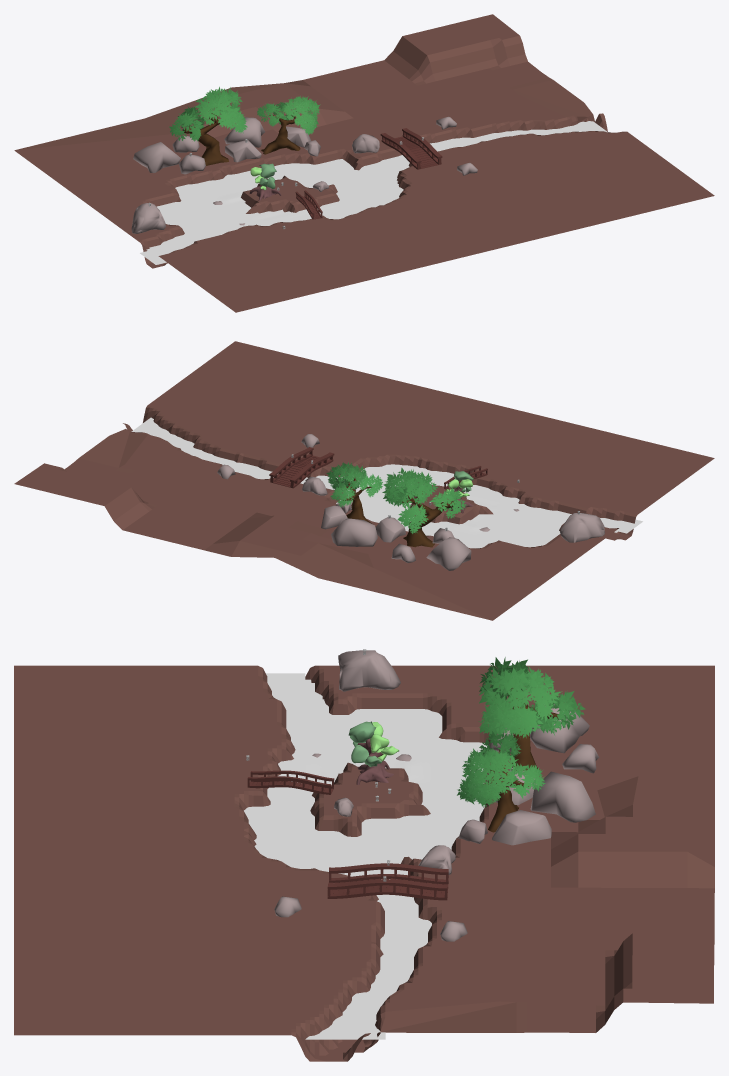
File: game_world2.glb
3 renders of one model, top to bottom at view 1: azimuth 30°, elevation 25°; view 2: azimuth 150°, elevation 25°; view 3: azimuth 270°, elevation 25°, orthographic. The views are drawn at different scales.
Visible parts, largest first — view 1: Ground, Water.001, leaf.001, leaf.002, bridge.002, Stone.014, Stone.001, Plane.004, Stone.010, Plane.001, Stone.006; view 2: Ground, Water.001, leaf.001, leaf.002, bridge.002, Stone.010, Stone.001, Stone.014, Plane.004, Stone.006, Stone.009; view 3: Ground, Water.001, leaf.001, leaf.002, bridge.002, Stone.010, Stone.001, Stone.009, bridge.003, Stone.014, Stone.008, Trunk (+2 smaller).
Boxes of the visible parts, x1=… form: Ground: x1=14, y1=14, x2=714, y2=312; Water.001: x1=140, y1=121, x2=607, y2=264; leaf.001: x1=169, y1=86, x2=247, y2=141; leaf.002: x1=257, y1=96, x2=320, y2=135; bridge.002: x1=380, y1=128, x2=442, y2=169; Stone.014: x1=133, y1=142, x2=180, y2=172; Stone.001: x1=131, y1=203, x2=165, y2=233; Plane.004: x1=184, y1=113, x2=228, y2=165; Stone.010: x1=224, y1=117, x2=264, y2=147; Plane.001: x1=261, y1=111, x2=307, y2=154; Stone.006: x1=225, y1=140, x2=261, y2=162; Ground: x1=14, y1=341, x2=714, y2=620; Water.001: x1=131, y1=417, x2=642, y2=548; leaf.001: x1=382, y1=467, x2=466, y2=533; leaf.002: x1=326, y1=462, x2=382, y2=507; bridge.002: x1=269, y1=447, x2=334, y2=488; Stone.010: x1=331, y1=518, x2=377, y2=546; Stone.001: x1=560, y1=513, x2=604, y2=542; Stone.014: x1=426, y1=537, x2=471, y2=570; Plane.004: x1=402, y1=482, x2=454, y2=547; Stone.006: x1=375, y1=517, x2=405, y2=542; Stone.009: x1=321, y1=505, x2=347, y2=529; Ground: x1=14, y1=665, x2=714, y2=1061; Water.001: x1=244, y1=673, x2=487, y2=1039; leaf.001: x1=478, y1=657, x2=585, y2=737; leaf.002: x1=457, y1=730, x2=545, y2=807; bridge.002: x1=327, y1=863, x2=448, y2=900; Stone.010: x1=530, y1=771, x2=595, y2=822; Stone.001: x1=338, y1=650, x2=400, y2=691; Stone.009: x1=492, y1=810, x2=551, y2=845; bridge.003: x1=247, y1=770, x2=334, y2=794; Stone.014: x1=529, y1=704, x2=589, y2=753; Stone.008: x1=562, y1=744, x2=599, y2=773; Trunk: x1=356, y1=738, x2=393, y2=784.
Bounding box in the file's own units: 83.22 × 16.5 × 66.09.
9 materials, 1 textured.
